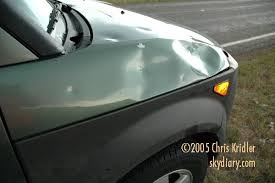Dent: (104, 38, 229, 94)
